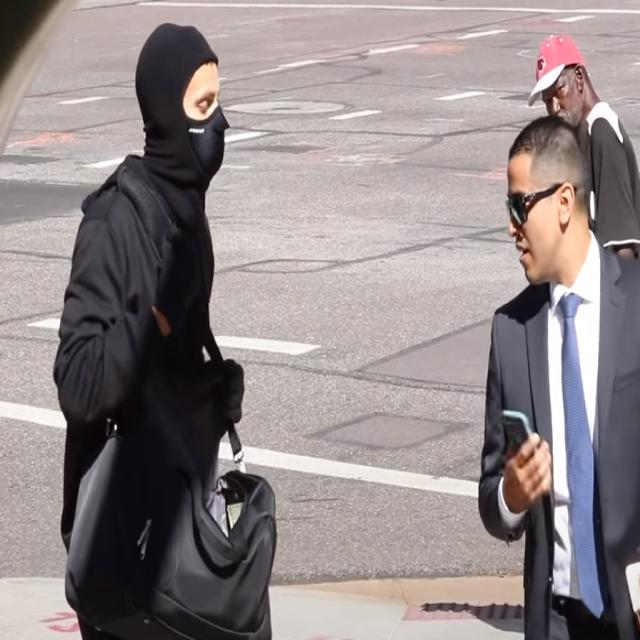hat: (529, 35, 585, 107)
